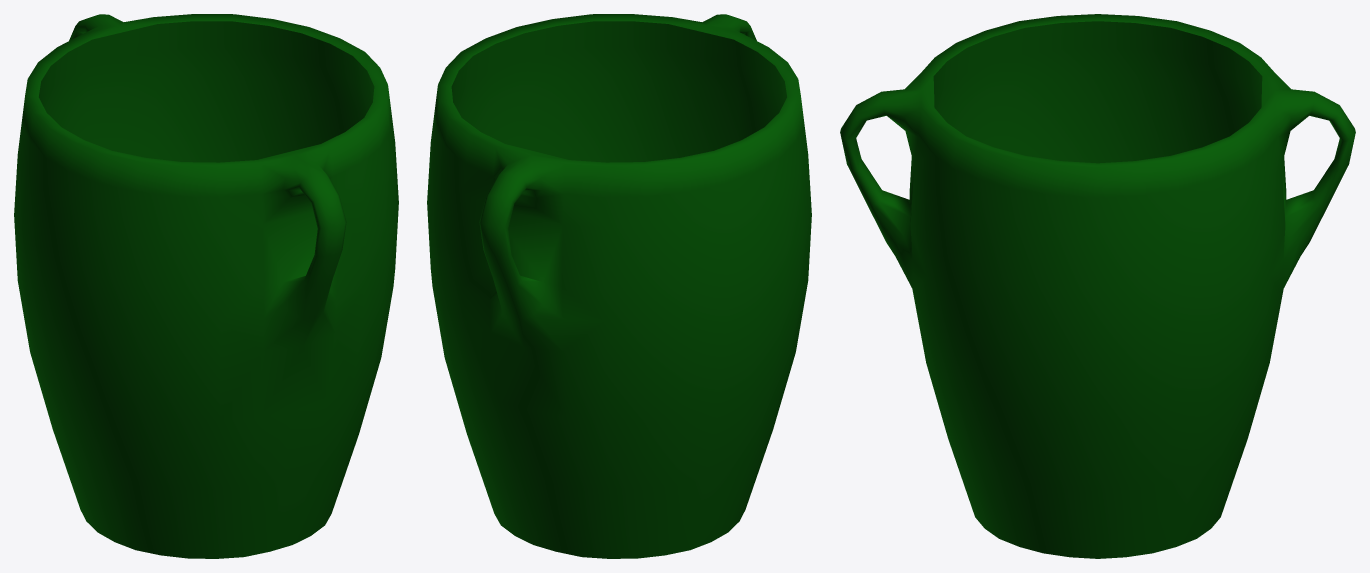
File: jug06.FBX
3 renders of one model, left to right at view 1: azimuth 30°, elevation 25°; view 2: azimuth 150°, elevation 25°; view 3: azimuth 270°, elevation 25°, orthographic.
Parts seen in each view (by area): view 1: SM_jug06_0; view 2: SM_jug06_0; view 3: SM_jug06_0.
Boxes of the visible parts, x1,y1,x2,y2 form: SM_jug06_0: (14,14,398,558); SM_jug06_0: (427,14,811,558); SM_jug06_0: (840,14,1355,558).
Bounding box in the file's own units: 28.72 × 38.46 × 34.13.
